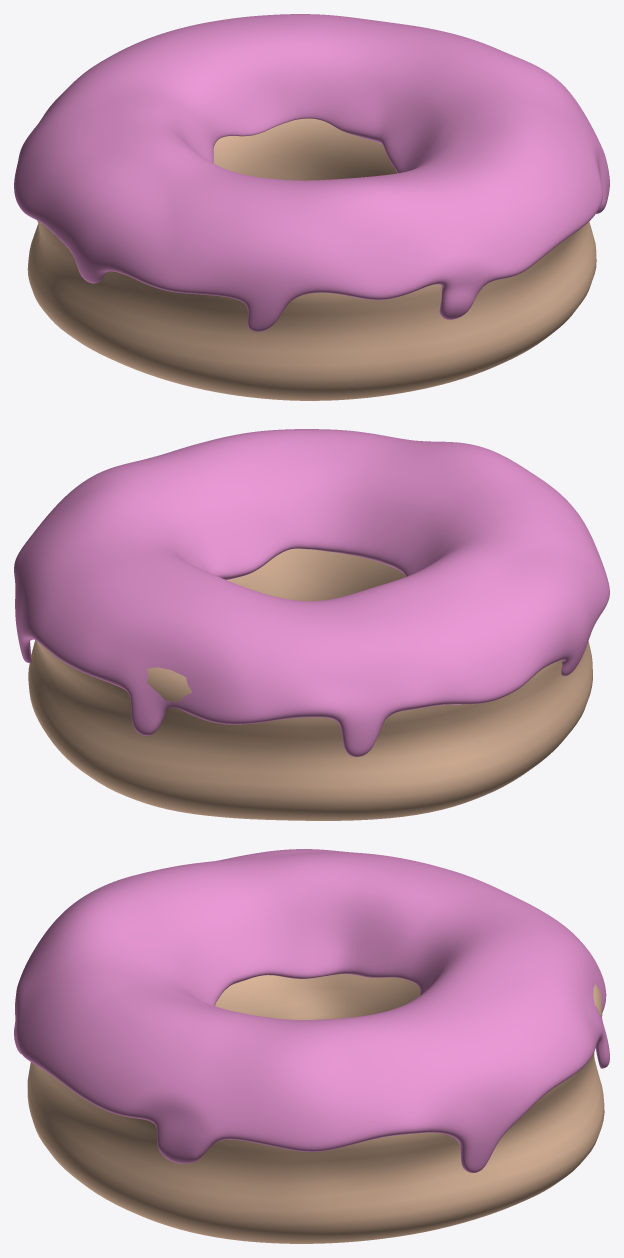
Rendered from DoNut.fbx.
3 renders of one model, top to bottom at view 1: azimuth 30°, elevation 25°; view 2: azimuth 150°, elevation 25°; view 3: azimuth 270°, elevation 25°, orthographic.
Visible parts, largest first — view 1: Icing, Bread; view 2: Icing, Bread; view 3: Icing, Bread.
Part boxes in pixels (bbox=[...]): Icing: bbox=[14, 14, 609, 331]; Bread: bbox=[27, 118, 596, 400]; Icing: bbox=[14, 429, 609, 756]; Bread: bbox=[28, 548, 592, 820]; Icing: bbox=[14, 849, 609, 1172]; Bread: bbox=[27, 974, 604, 1243].
Size of the model in its own units: 0.1444 by 0.0575 by 0.1434.
